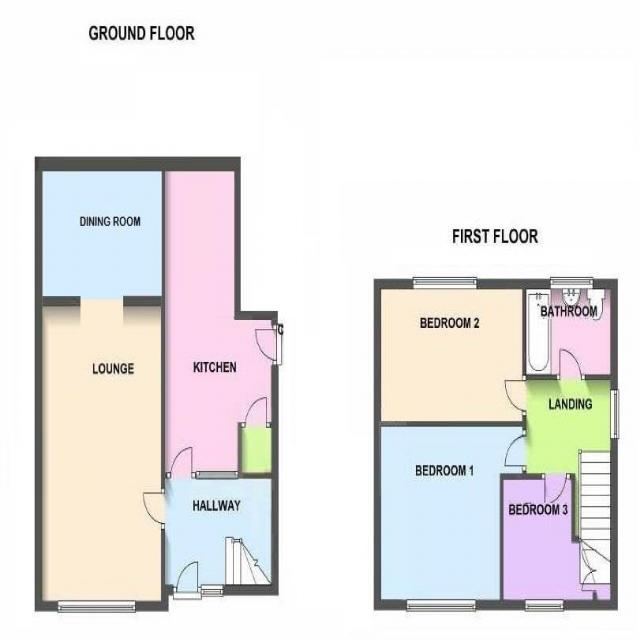DOOR: (254, 323, 282, 366), (174, 559, 203, 600), (541, 473, 571, 507), (504, 429, 527, 472), (504, 374, 527, 417), (142, 487, 165, 530), (556, 348, 586, 380), (166, 446, 196, 478)
ROOM: (34, 156, 169, 613), (161, 156, 284, 479), (373, 421, 527, 611), (374, 276, 527, 427), (500, 473, 618, 612)
WINDOW: (57, 599, 136, 614), (406, 598, 476, 612), (412, 276, 478, 290), (549, 276, 594, 290), (609, 388, 620, 440), (524, 598, 564, 612), (195, 470, 239, 480)
